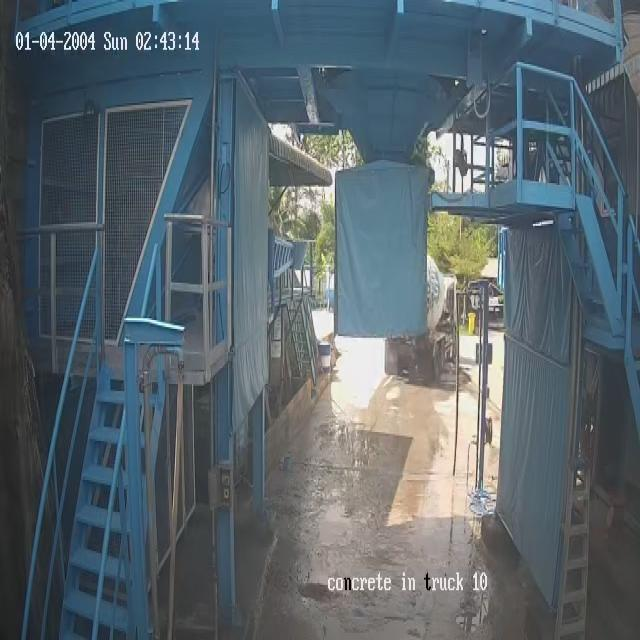cement_mixer_truck: (386, 256, 457, 380)
